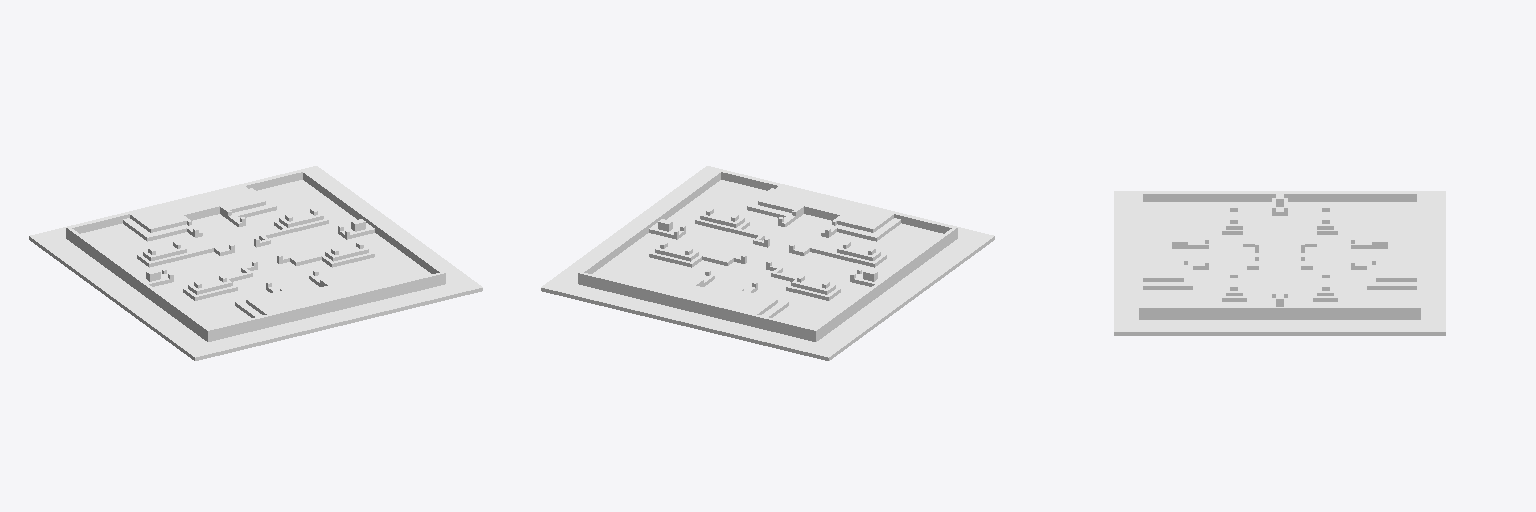
File: level2.obj
The picture shows the model from 3 angles: view 1: azimuth 30°, elevation 25°; view 2: azimuth 150°, elevation 25°; view 3: azimuth 270°, elevation 25°; orthographic projection.
Parts seen in each view (by area): view 1: level2; view 2: level2; view 3: level2.
Boxes of the visible parts, x1,y1,x2,y2 form: level2: [29, 166, 482, 360]; level2: [541, 166, 994, 360]; level2: [1114, 191, 1445, 335].
Size of the model in its own units: 80 by 5 by 80.